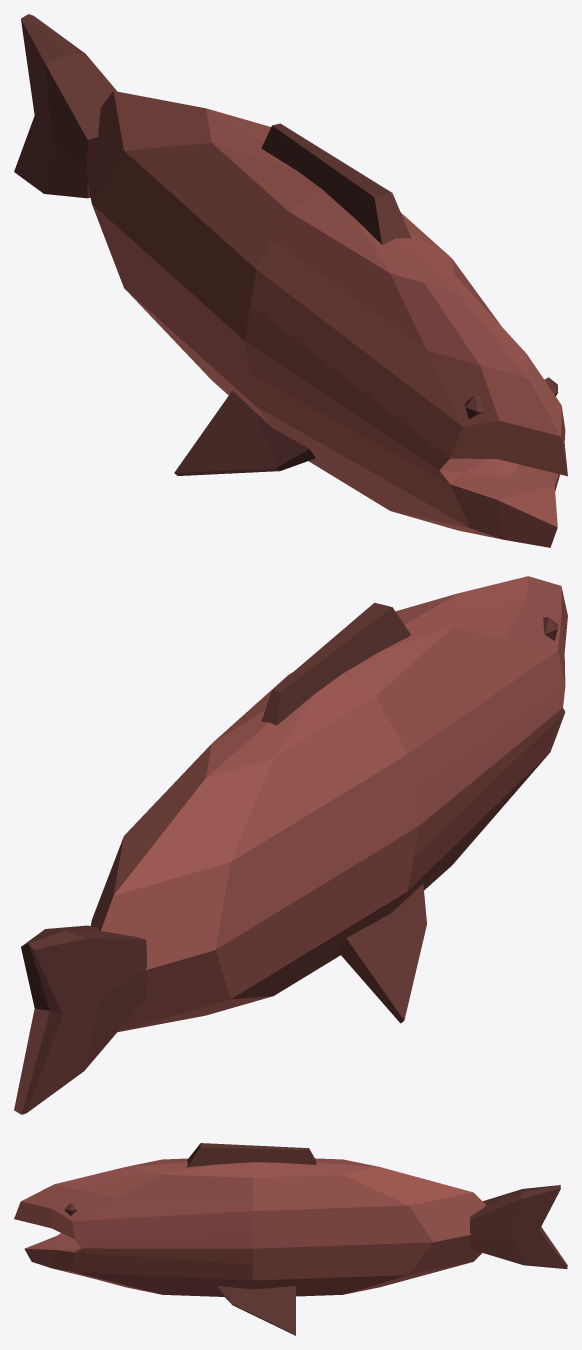
Rendered from Fish fixed.fbx.
3 renders of one model, top to bottom at view 1: azimuth 30°, elevation 25°; view 2: azimuth 150°, elevation 25°; view 3: azimuth 270°, elevation 25°, orthographic. The views are drawn at different scales.
Visible parts, largest first — view 1: Sphere, Cube, Cube.002, Cube.001; view 2: Sphere, Cube, Cube.002, Cube.001; view 3: Sphere, Cube, Cube.001, Cube.002.
Part boxes in pixels (x1,y1,x2,y2): Sphere: (85, 91, 567, 547); Cube: (14, 14, 117, 198); Cube.002: (174, 390, 315, 475); Cube.001: (261, 123, 411, 244); Sphere: (91, 576, 567, 1032); Cube: (14, 925, 146, 1114); Cube.002: (337, 884, 426, 1023); Cube.001: (261, 602, 410, 725); Sphere: (14, 1158, 486, 1296); Cube: (470, 1185, 567, 1268); Cube.001: (187, 1143, 316, 1167); Cube.002: (217, 1286, 295, 1335).
Bounding box in the file's own units: 211 × 282 × 868.
